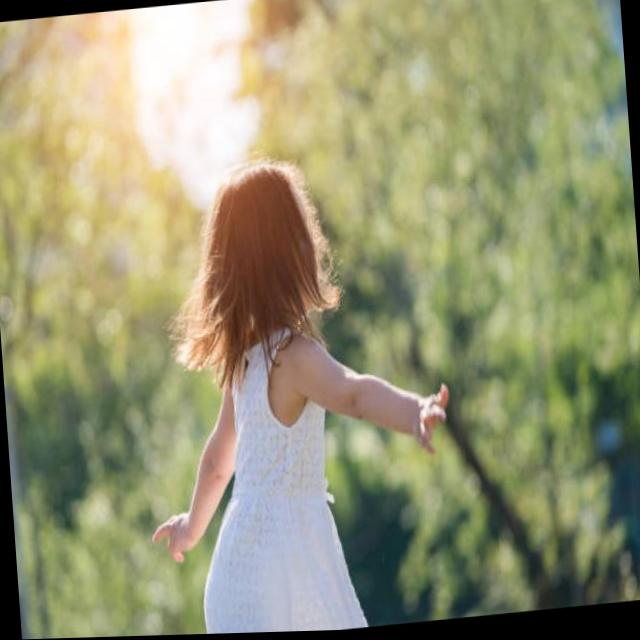no helmet: (158, 144, 350, 422)
